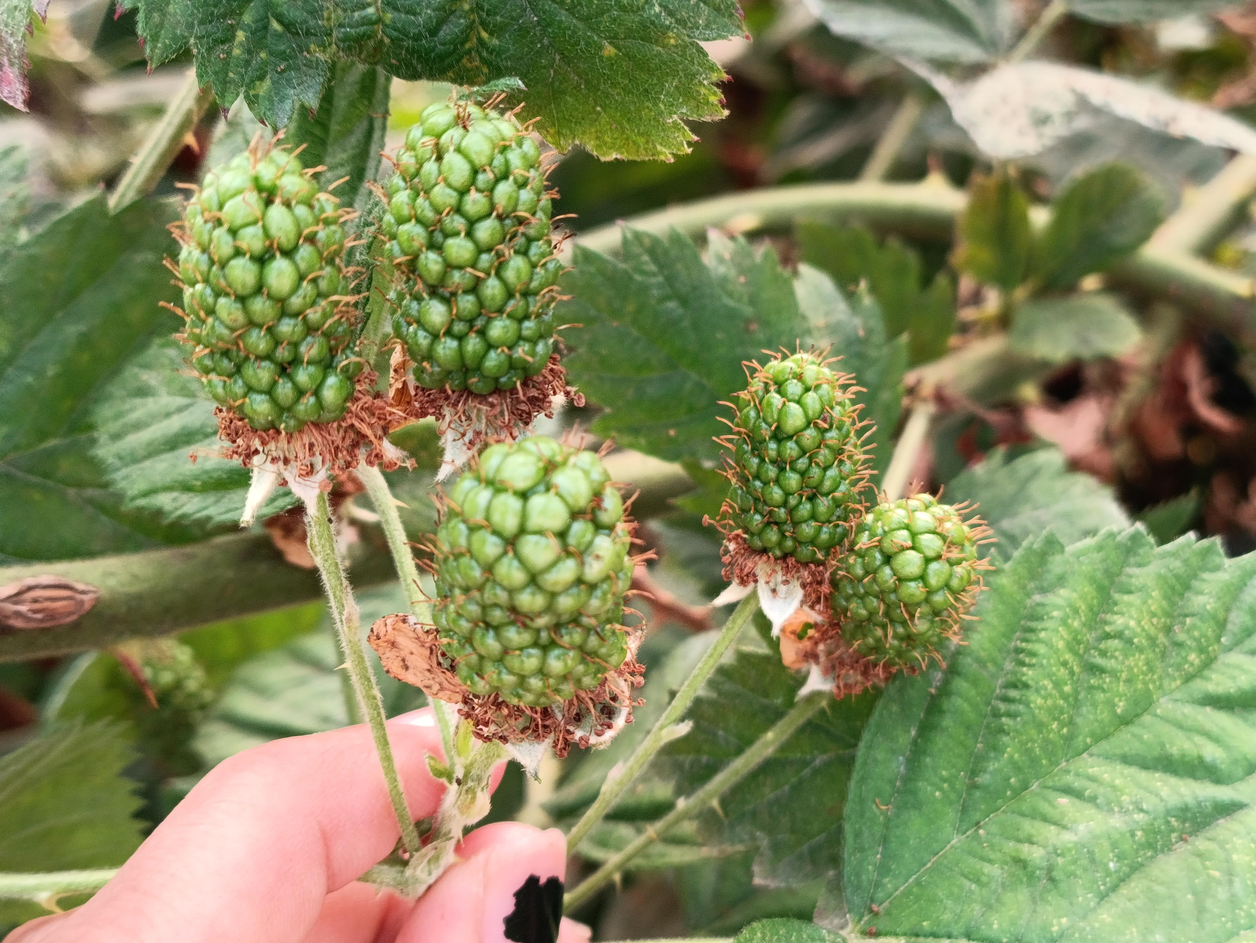verde: (431, 436, 640, 740), (380, 104, 563, 408)
